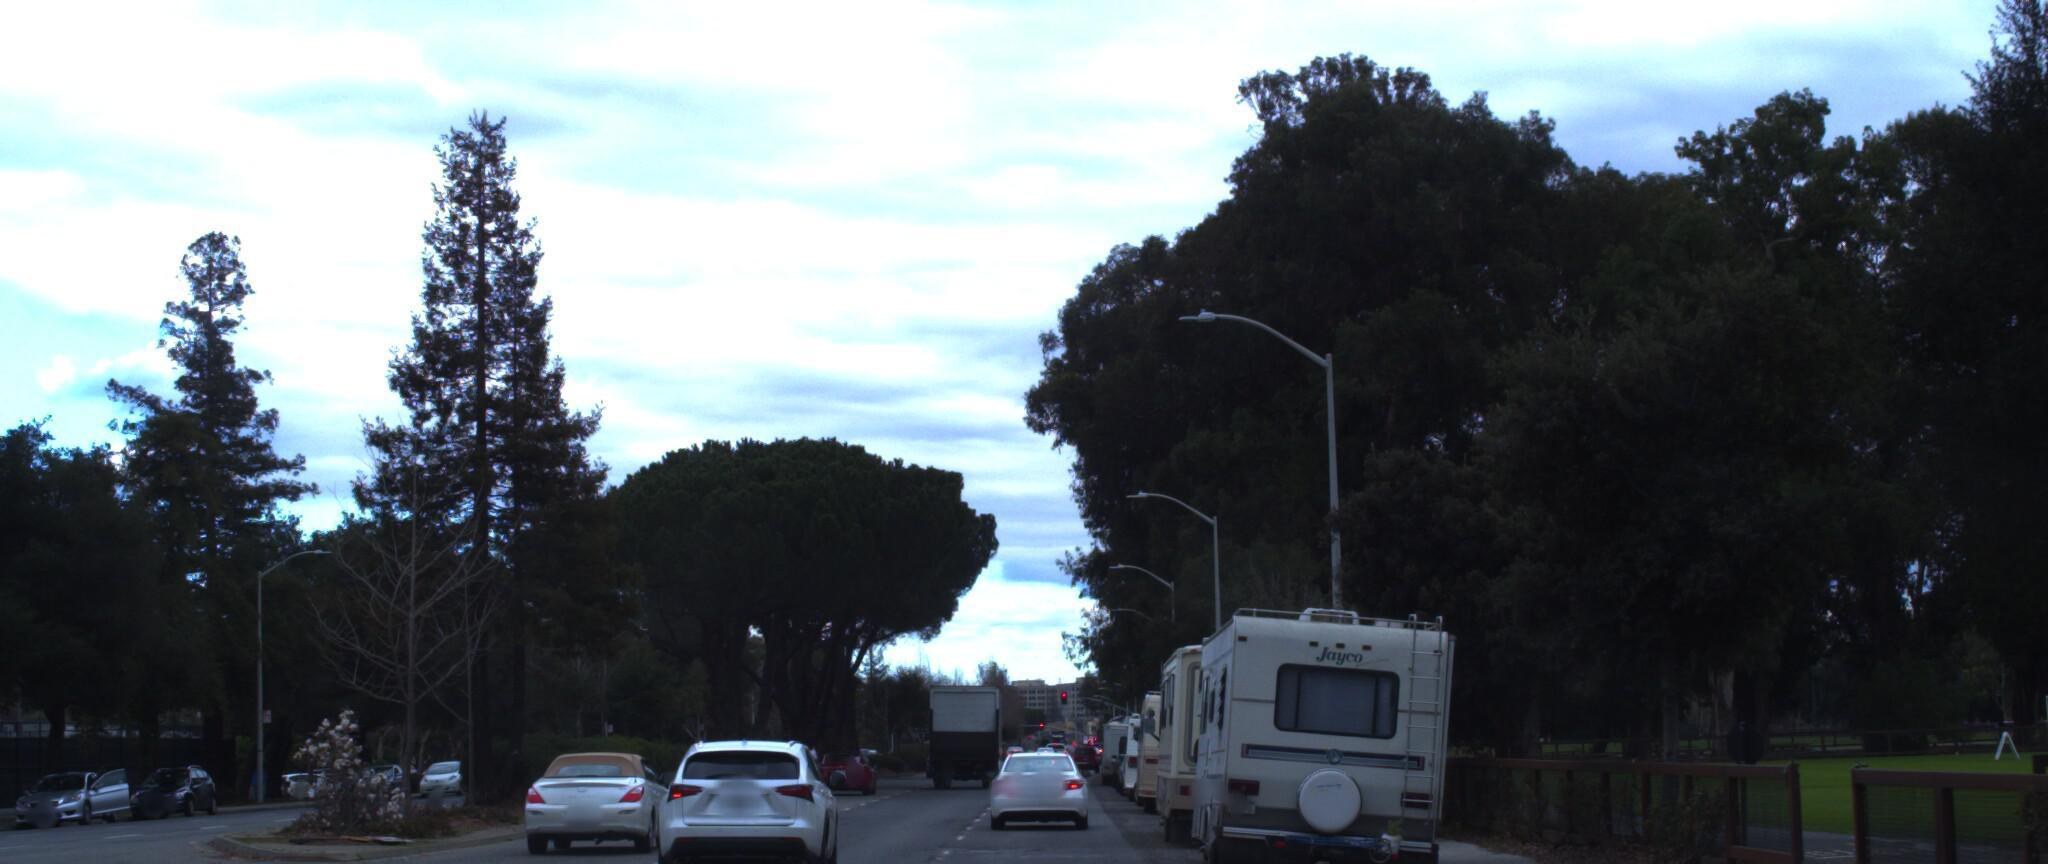car: (647, 726, 844, 864), (513, 737, 680, 854), (981, 733, 1084, 821), (7, 756, 129, 826)
other_vehicle: (1173, 583, 1467, 864), (1147, 609, 1345, 851), (1126, 662, 1249, 807)
